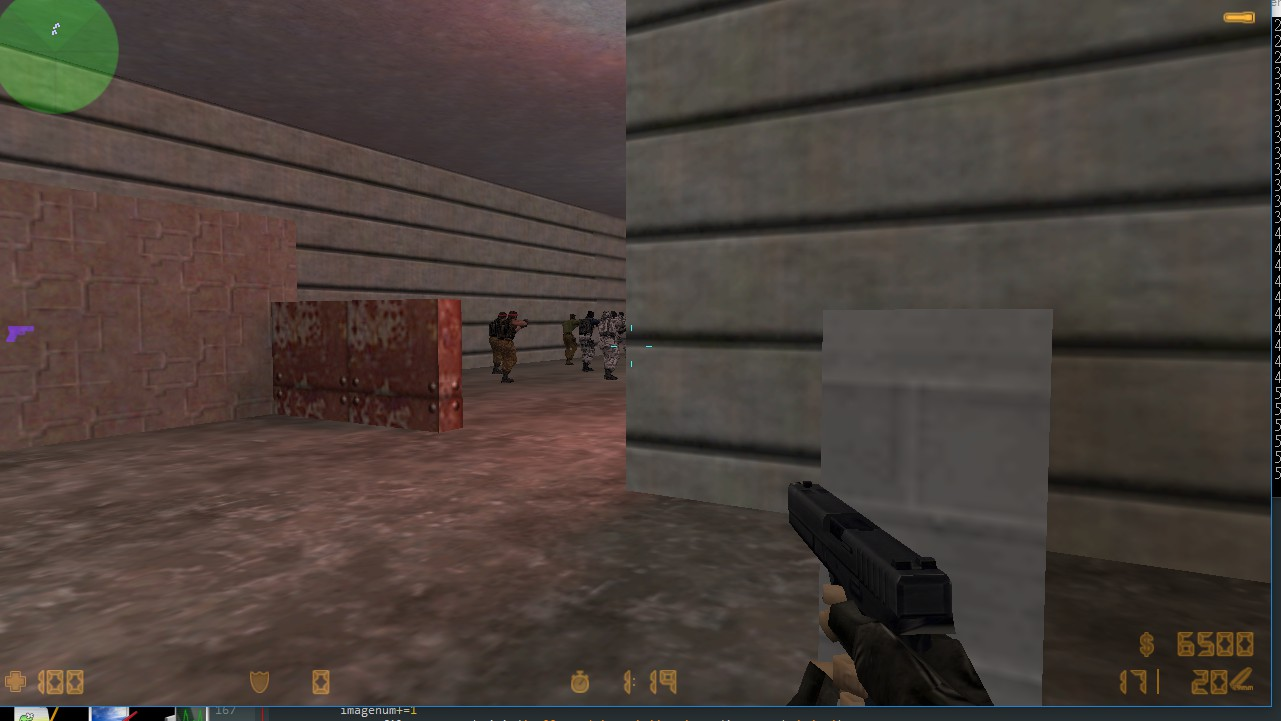person: (492, 305, 531, 388), (598, 309, 623, 384), (577, 307, 599, 374), (488, 310, 507, 376), (559, 311, 579, 367)
